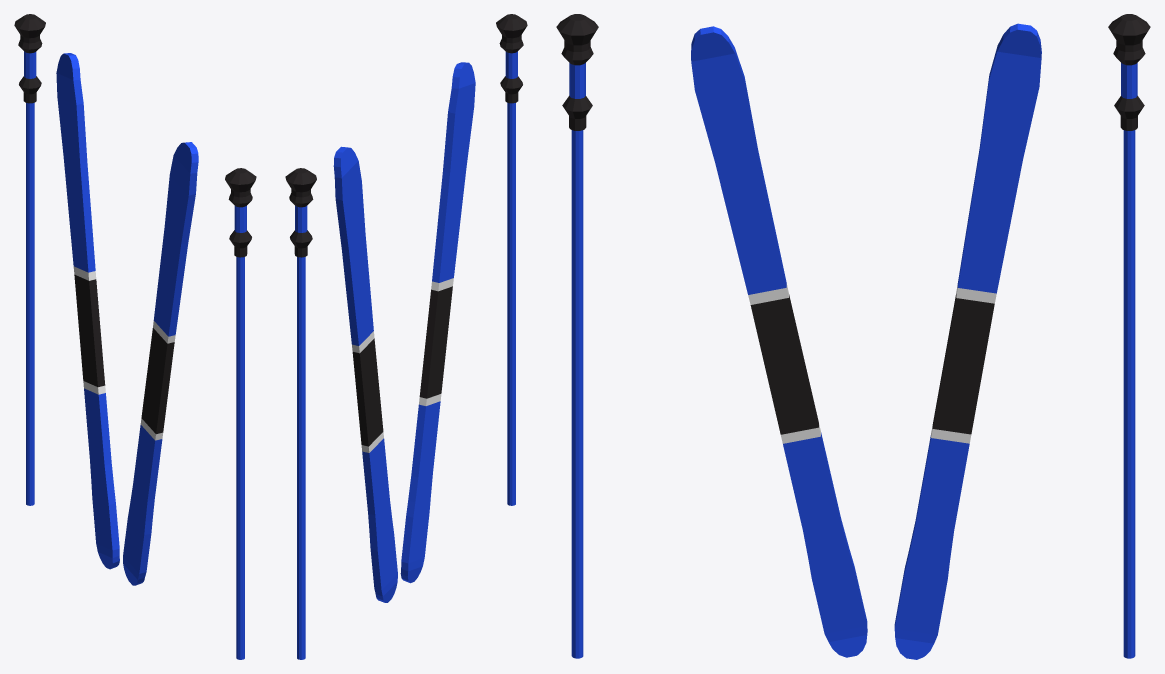
Rendered from SkiSetBLUE.fbx.
The picture shows the model from 3 angles, left to right: view 1: azimuth 30°, elevation 25°; view 2: azimuth 150°, elevation 25°; view 3: azimuth 270°, elevation 25°; orthographic projection. The views are drawn at different scales.
Parts seen in each view (by area): view 1: Cylinder.001; view 2: Cylinder.001; view 3: Cylinder.001.
Part boxes in pixels (left/top/right/bottom): Cylinder.001: left=14, top=14, right=256, bottom=659; Cylinder.001: left=285, top=14, right=527, bottom=659; Cylinder.001: left=556, top=14, right=1150, bottom=659.
Size of the model in its own units: 28.23 by 494 by 414.
